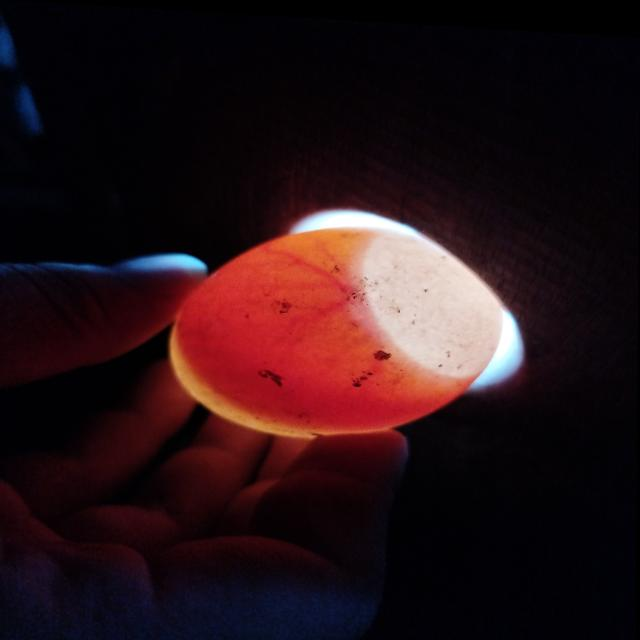Camara de Ar: (363, 225, 502, 371)
